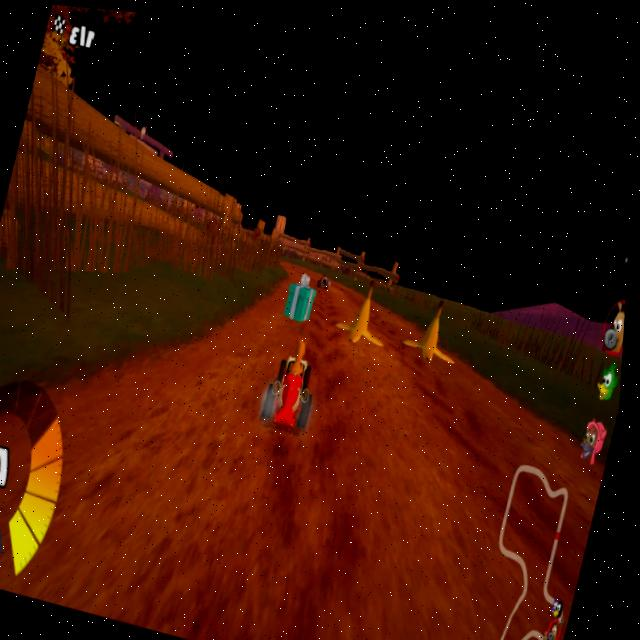bonus: (282, 273, 324, 317)
enemy_kart: (316, 263, 336, 284)
obstacle: (337, 269, 397, 346), (405, 287, 464, 360)
off_track: (7, 156, 259, 307), (463, 277, 580, 354)
player_kart: (258, 324, 334, 431)
track: (310, 348, 511, 514)
